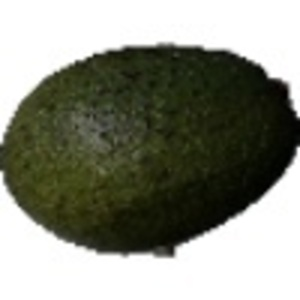abacate: (3, 42, 298, 248)
